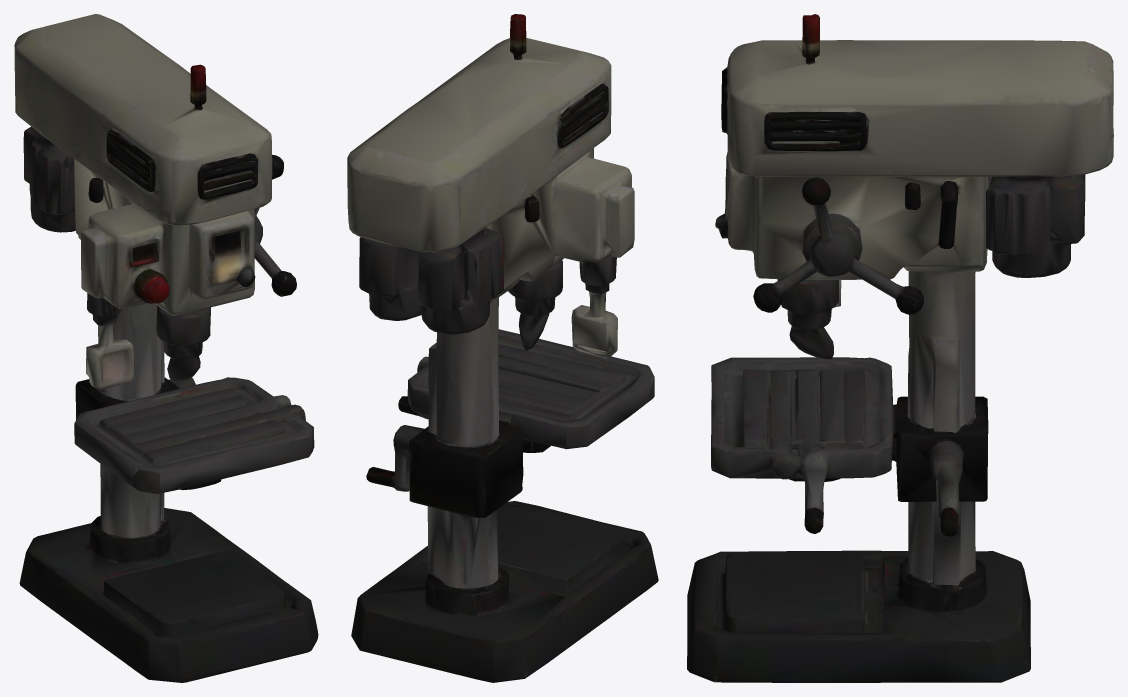
File: drill_press.glb
3 views of the same model, side by side, from view 1: azimuth 30°, elevation 25°; view 2: azimuth 150°, elevation 25°; view 3: azimuth 270°, elevation 25° (orthographic). The views are drawn at different scales.
Parts seen in each view (by area): view 1: geometry_0; view 2: geometry_0; view 3: geometry_0.
Boxes of the visible parts, bbox=[...] form: geometry_0: bbox=[14, 14, 318, 682]; geometry_0: bbox=[347, 14, 658, 682]; geometry_0: bbox=[687, 14, 1113, 682].
Bounding box in the file's own units: 0.4145 × 1 × 0.6208.
1 material, 1 textured.
